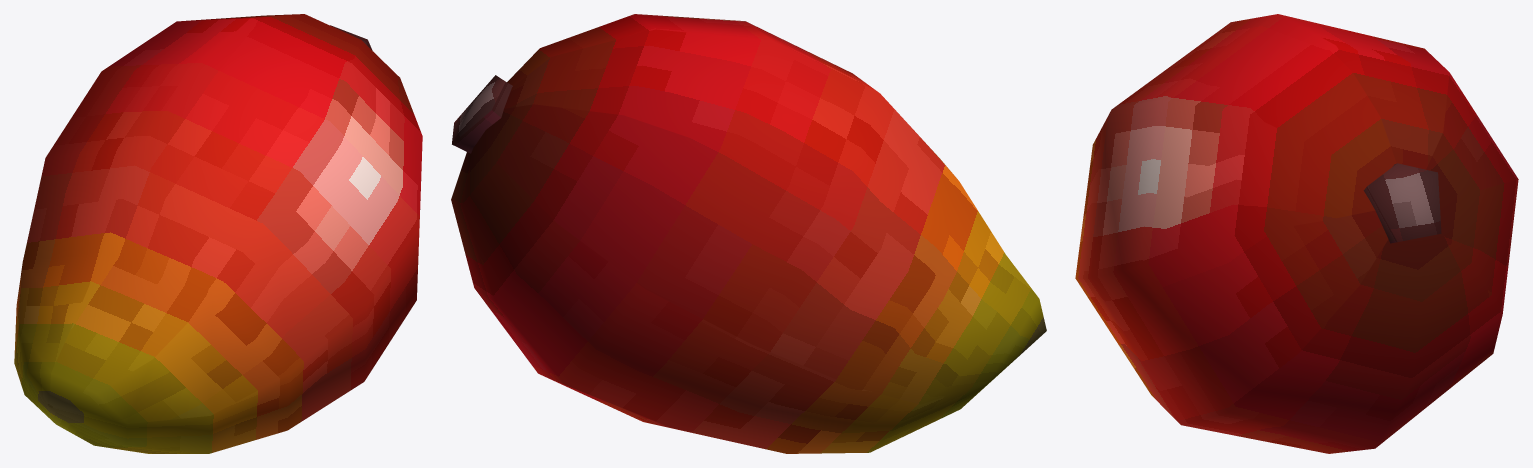
File: Mango.fbx
3 views of the same model, side by side, from view 1: azimuth 30°, elevation 25°; view 2: azimuth 150°, elevation 25°; view 3: azimuth 270°, elevation 25° (orthographic). The views are drawn at different scales.
Parts seen in each view (by area): view 1: _0_0; view 2: _0_0; view 3: _0_0.
Boxes of the visible parts, left/top/right/bottom form: _0_0: left=14, top=14, right=422, bottom=453; _0_0: left=451, top=14, right=1046, bottom=453; _0_0: left=1075, top=14, right=1518, bottom=453.
Bounding box in the file's own units: 1520 × 1242 × 1208.
